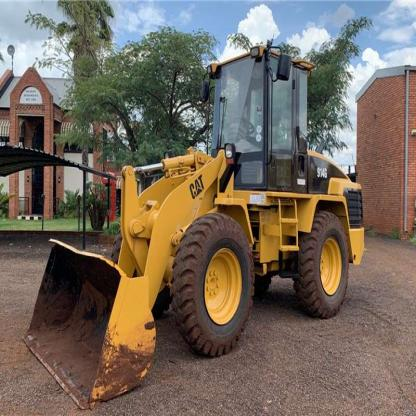bull_dozer/loader/grader: (21, 34, 372, 404)
